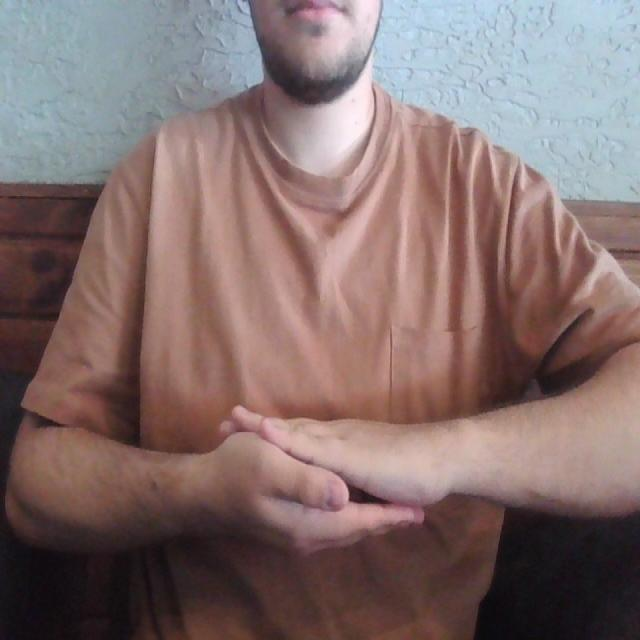Arkadas: (95, 398, 568, 562)
